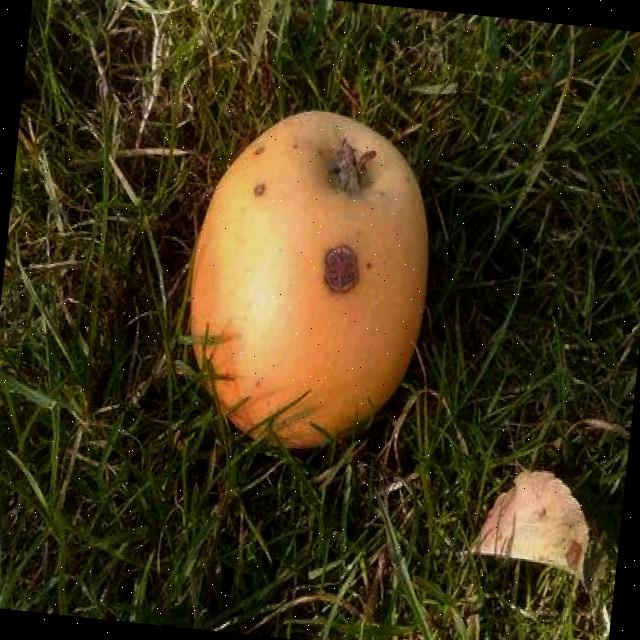rotten apple: (149, 80, 486, 490)
